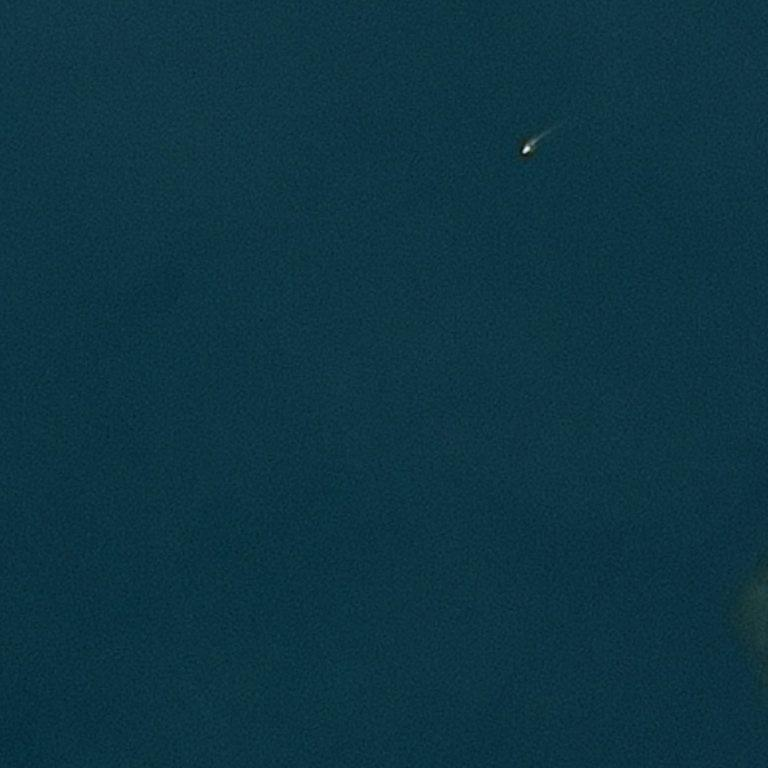ship: (525, 69, 529, 77), (522, 153, 524, 154), (526, 144, 527, 146), (531, 149, 531, 149)
